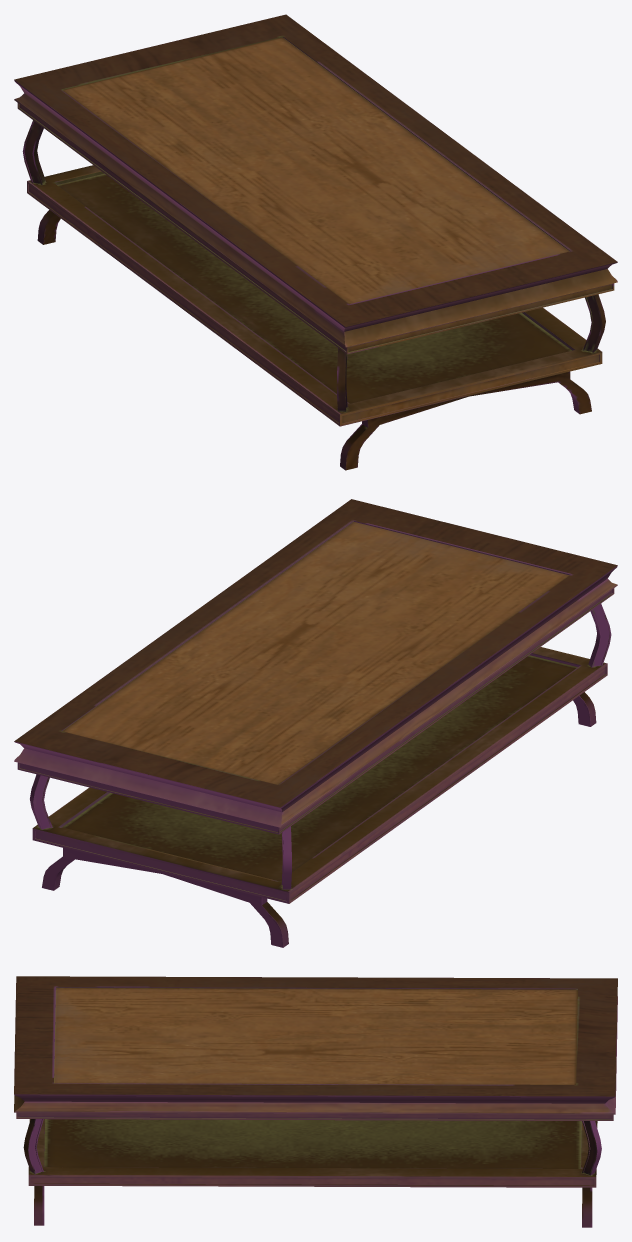
Rendered from Coffee Table.fbx.
3 renders of one model, top to bottom at view 1: azimuth 30°, elevation 25°; view 2: azimuth 150°, elevation 25°; view 3: azimuth 270°, elevation 25°, orthographic. The views are drawn at different scales.
Visible parts, largest first — view 1: Coffee Table; view 2: Coffee Table; view 3: Coffee Table.
Part boxes in pixels (x1,y1,x2,y2): Coffee Table: [14, 14, 617, 470]; Coffee Table: [14, 499, 617, 947]; Coffee Table: [14, 976, 617, 1227].
Bounding box in the file's own units: 66.67 × 35.57 × 141.
